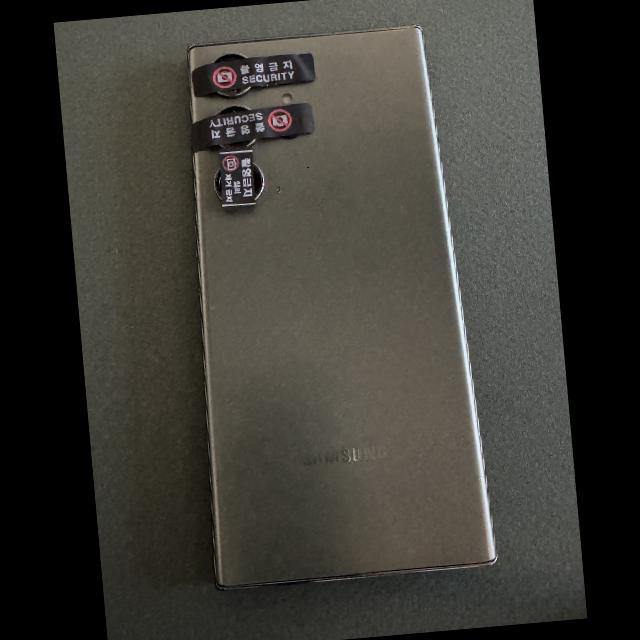lens: (216, 87, 252, 99), (253, 163, 264, 201), (220, 139, 257, 148)
phone: (188, 26, 496, 588)
sticker: (191, 102, 314, 152), (192, 53, 315, 97), (218, 146, 256, 210)
